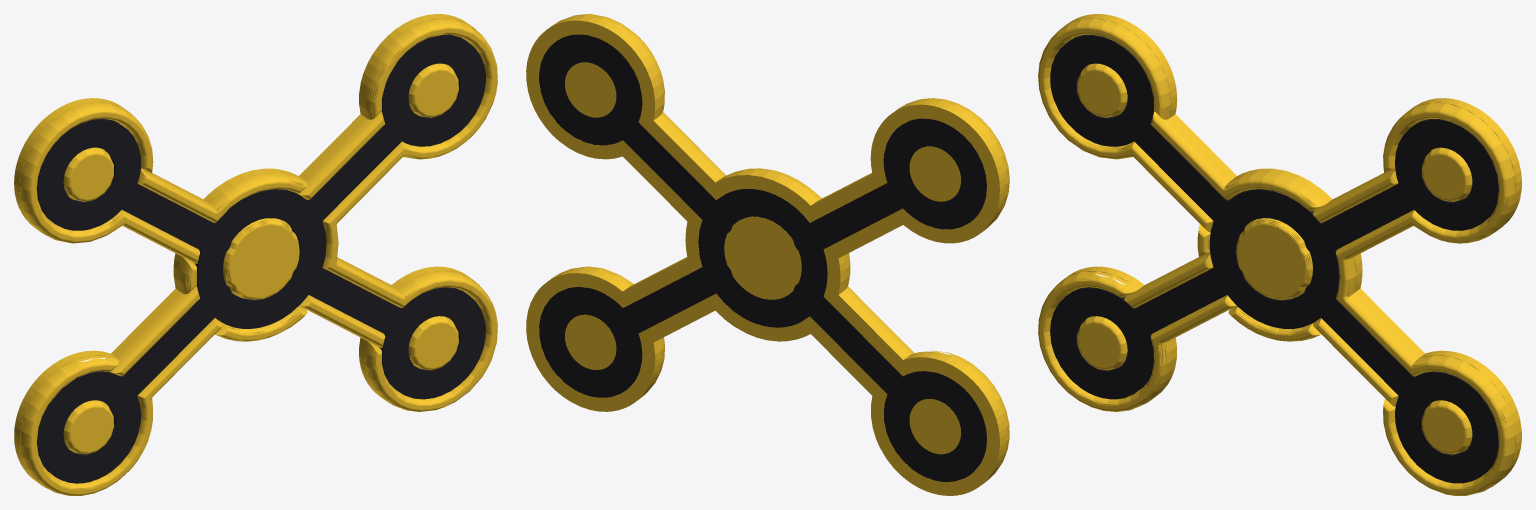
Rendered from plan_uses_t8.glb.
3 renders of one model, left to right at view 1: azimuth 30°, elevation 25°; view 2: azimuth 150°, elevation 25°; view 3: azimuth 330°, elevation 25°, orthographic.
Visible parts, largest first — view 1: mark, mark_channel; view 2: mark, mark_channel; view 3: mark, mark_channel.
Boxes of the visible parts, x1=… form: mark: x1=14, y1=14, x2=497, y2=495; mark_channel: x1=37, y1=34, x2=485, y2=483; mark: x1=526, y1=14, x2=1009, y2=495; mark_channel: x1=539, y1=34, x2=986, y2=481; mark: x1=1038, y1=14, x2=1521, y2=495; mark_channel: x1=1050, y1=34, x2=1498, y2=483.
Bounding box in the file's own units: 0.4949 × 0.387 × 0.024.
